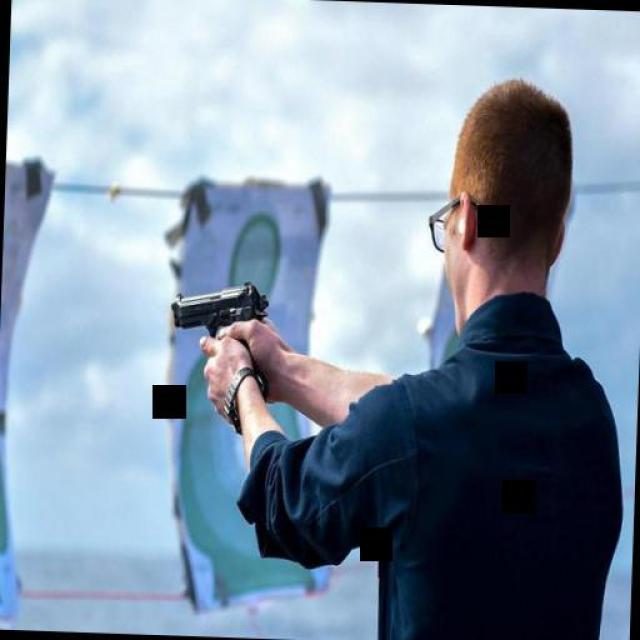gun: (166, 275, 270, 341)
